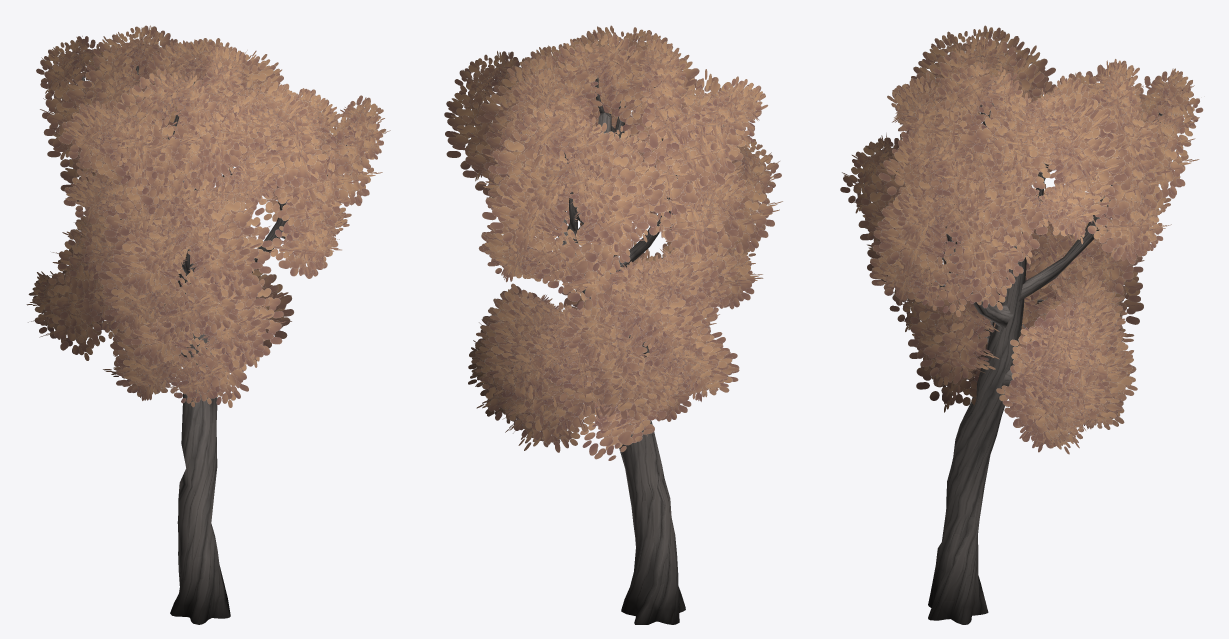
File: TwistedTree_5.glb
3 renders of one model, left to right at view 1: azimuth 30°, elevation 25°; view 2: azimuth 150°, elevation 25°; view 3: azimuth 270°, elevation 25°, orthographic. The views are drawn at different scales.
Visible parts, largest first — view 1: TwistedTree_5; view 2: TwistedTree_5; view 3: TwistedTree_5.
Part boxes in pixels (x1=…): TwistedTree_5: x1=26, y1=25, x2=390, y2=624; TwistedTree_5: x1=444, y1=25, x2=782, y2=624; TwistedTree_5: x1=840, y1=25, x2=1203, y2=624.
Size of the model in its own units: 9.9 by 15.79 by 9.69.
2 materials, 2 textured.
